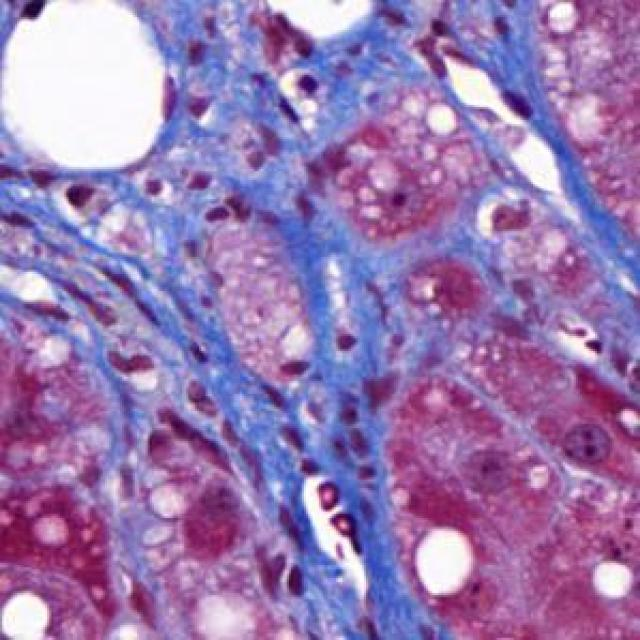inflammation: (298, 476, 377, 554), (191, 184, 293, 233), (402, 22, 471, 82)
